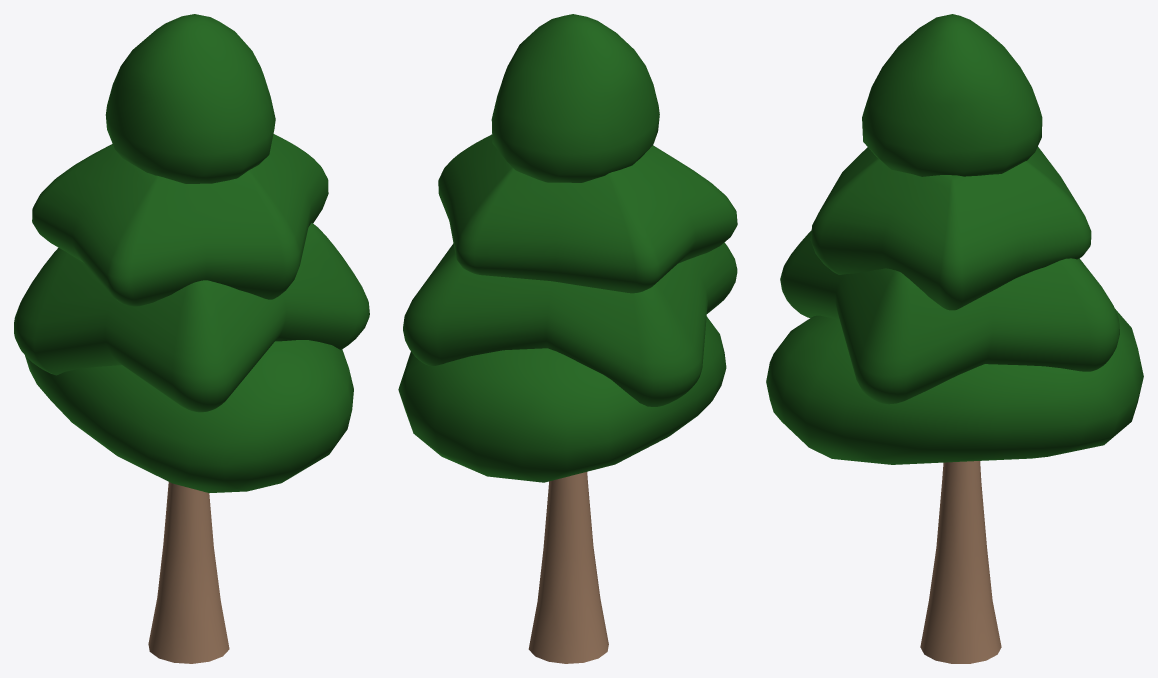
Rendered from Arbol8.fbx.
3 views of the same model, side by side, from view 1: azimuth 30°, elevation 25°; view 2: azimuth 150°, elevation 25°; view 3: azimuth 270°, elevation 25° (orthographic).
Visible parts, largest first — view 1: Tree3_1; view 2: Tree3_1; view 3: Tree3_1.
Boxes of the visible parts, x1,y1,x2,y2 form: Tree3_1: [14, 14, 369, 663]; Tree3_1: [398, 14, 737, 663]; Tree3_1: [766, 14, 1143, 663].
Size of the model in its own units: 1101 by 2310 by 1260.
